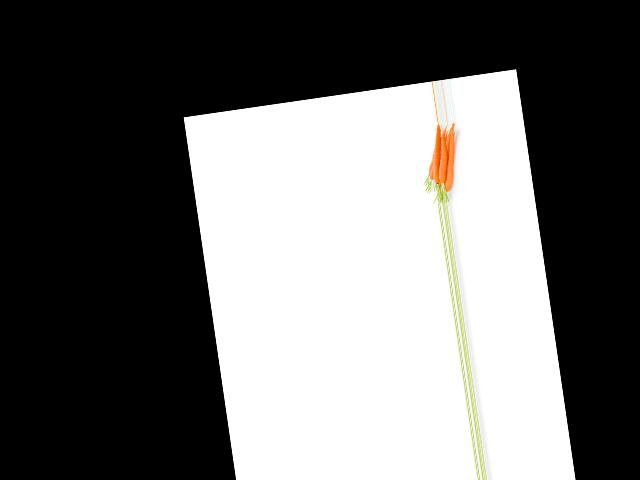carrot: (440, 123, 461, 193)
